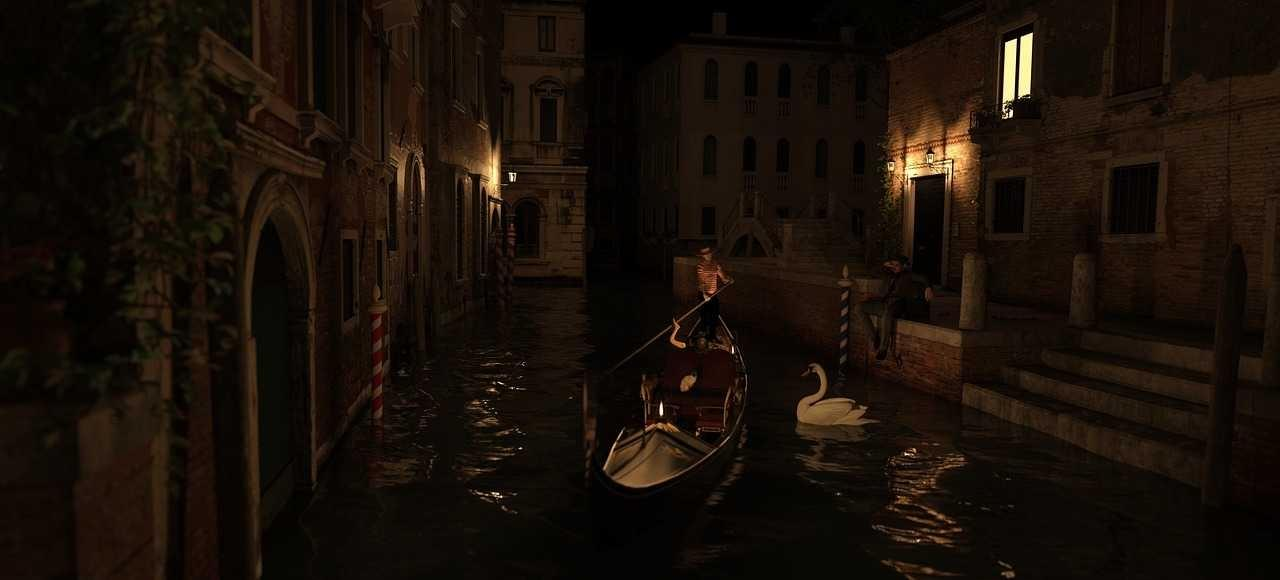kayak: (592, 292, 749, 509)
